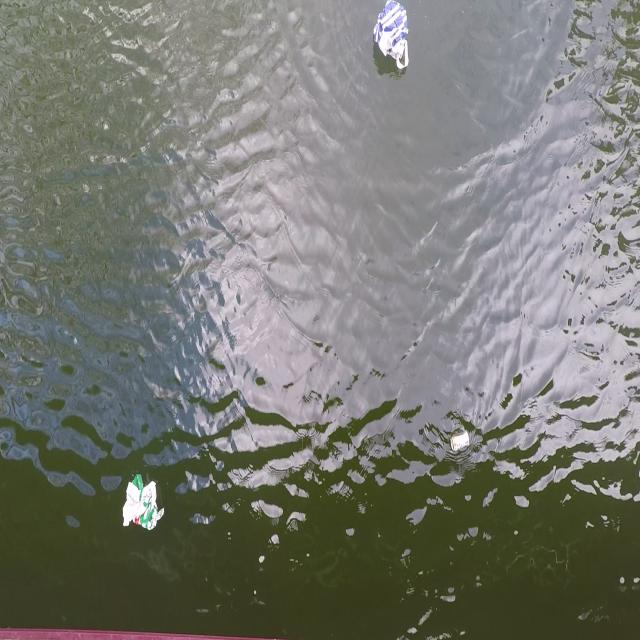Sac plastique: (118, 465, 170, 543), (370, 0, 416, 72)
